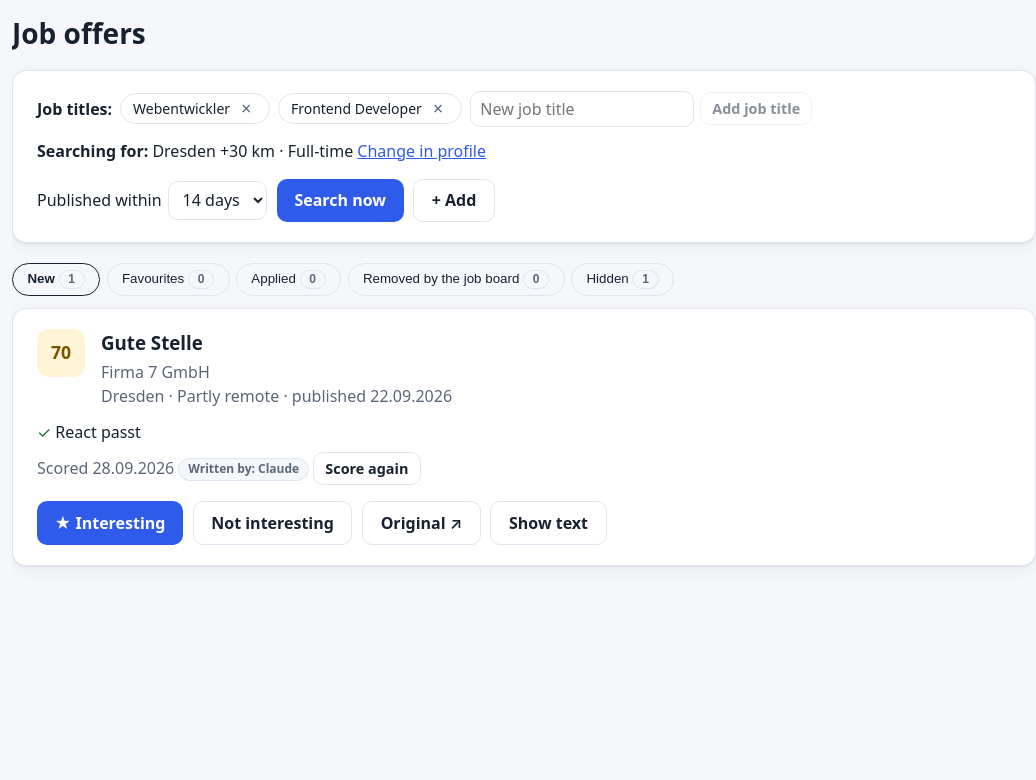
it: VacancyList › tabs with counts; "Interesting" moves the card to Favourites
Expected: the heading "Gute Stelle" is shown, [101,330,203,355]
Expected: the tab "Hidden 1" is shown, [571,263,674,296]
Step 1. Click the button "★ Interesting" → x=110, y=523, box [37,501,183,545]
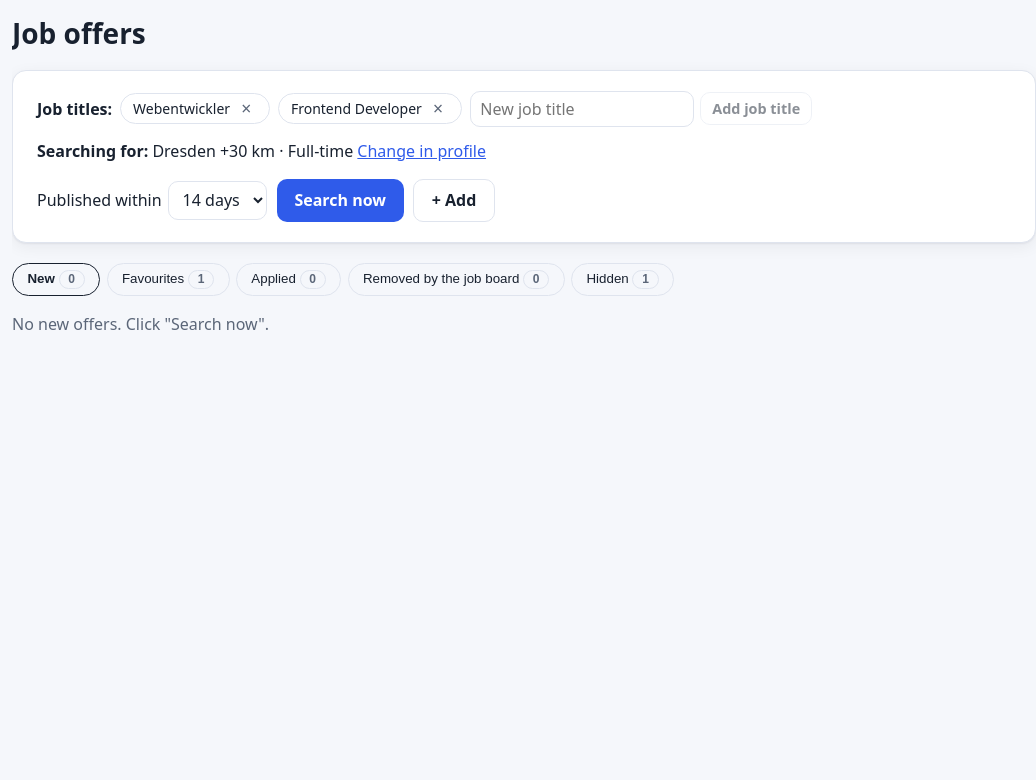
Now the tab "Favourites 1" is shown
Now the heading "Gute Stelle" is gone
Step 2. Click the tab "Favourites 1" → x=168, y=279, box [107,263,230,296]
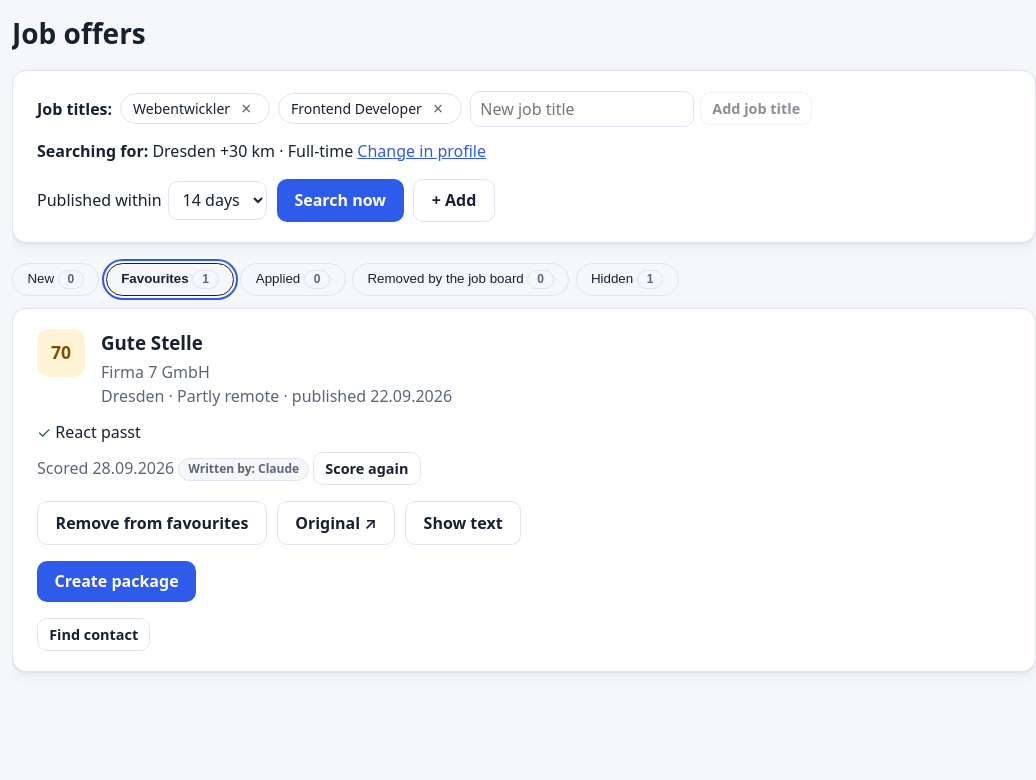
Now the button "Remove from favourites" is shown, box [37,501,267,545]
